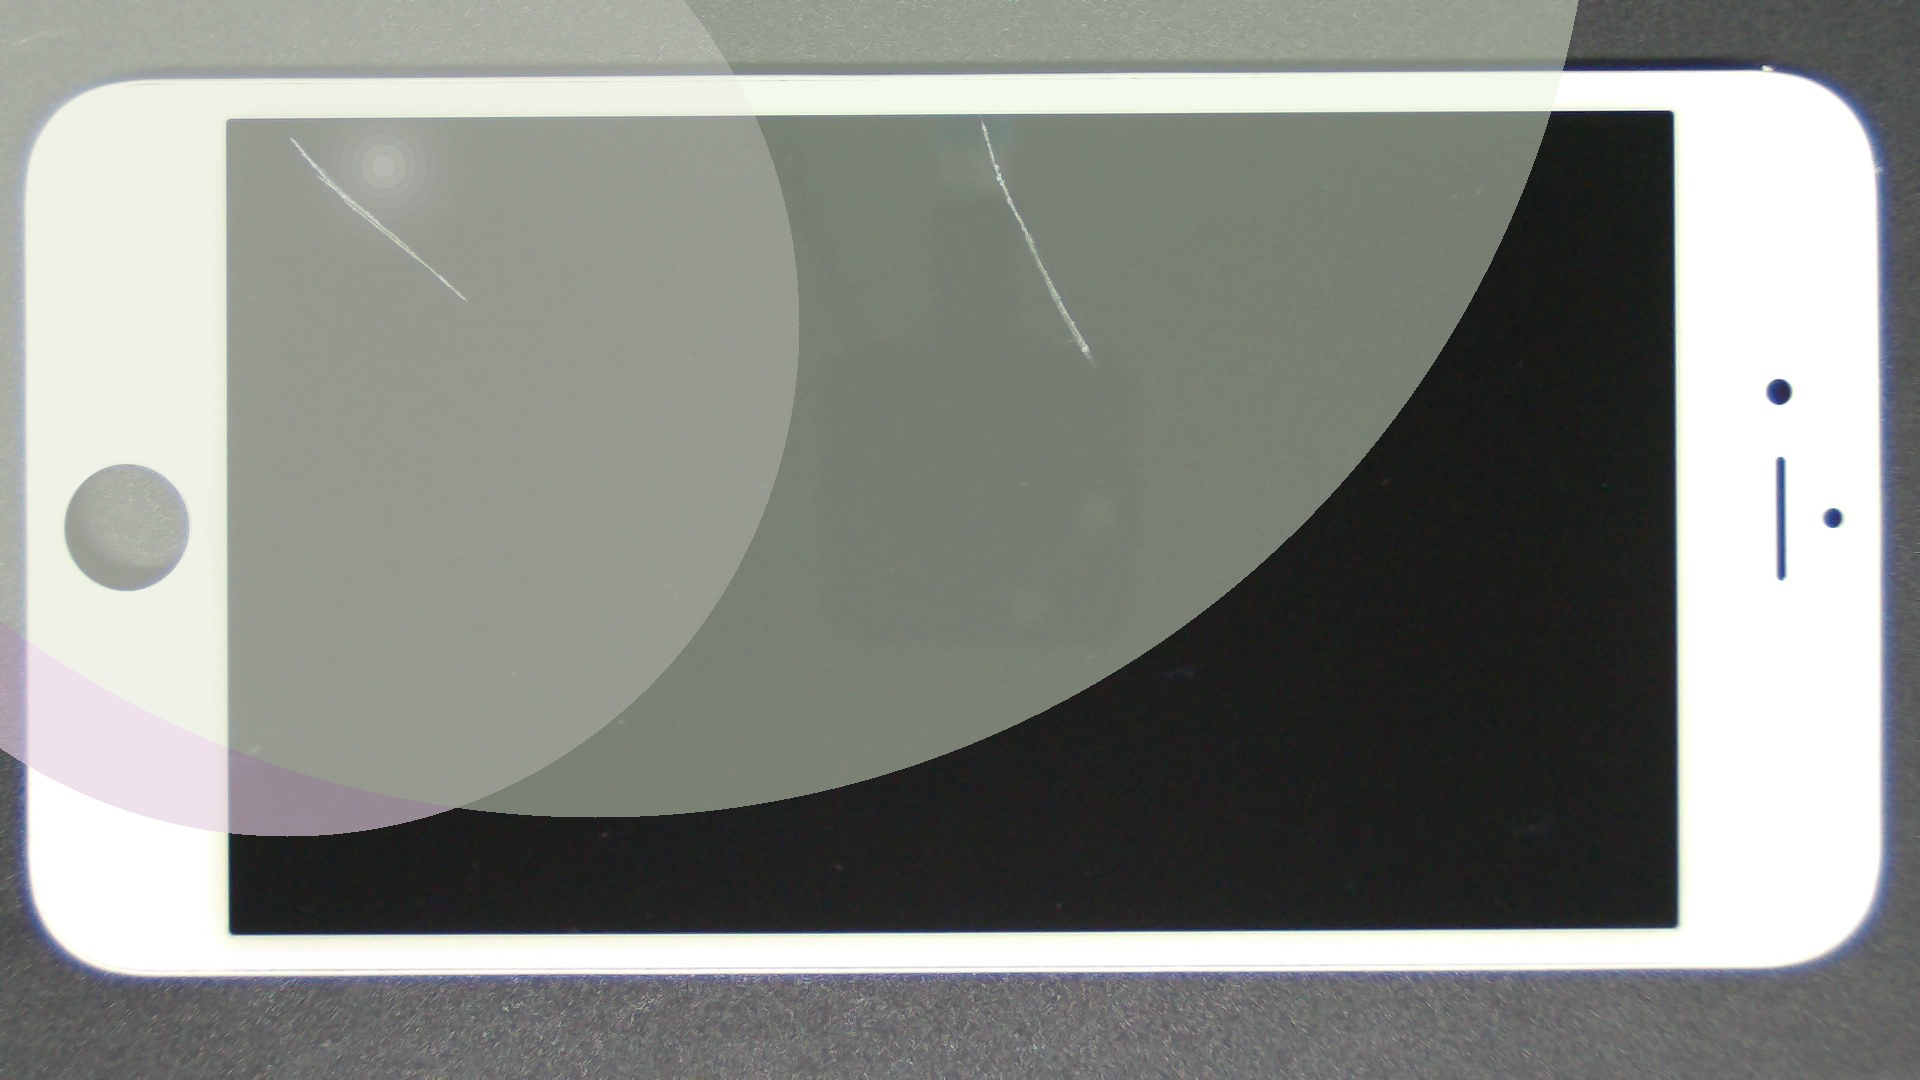oil: (491, 59, 1469, 179), (145, 67, 433, 204)
